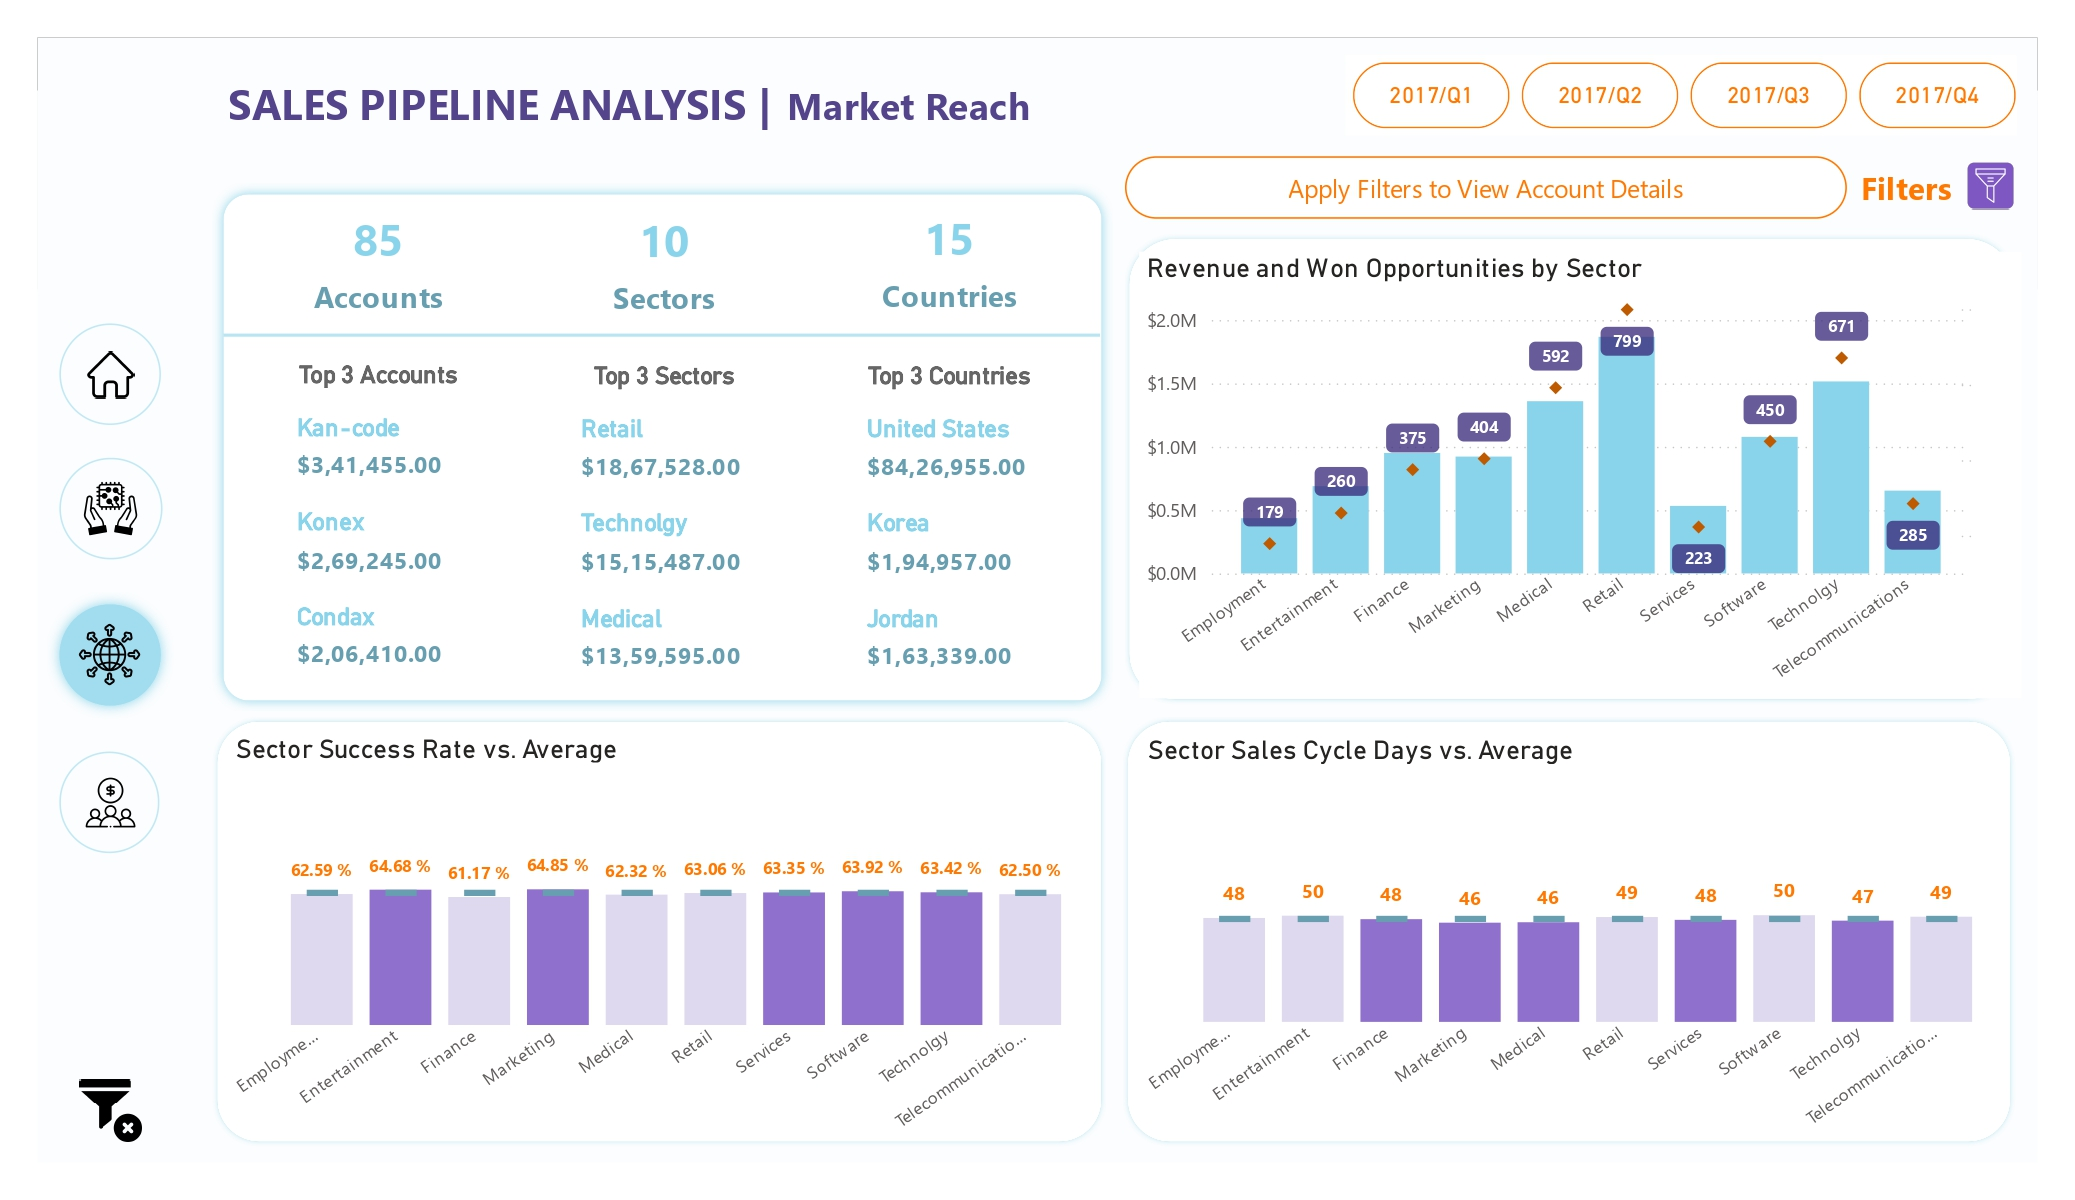

The page's visual inventory and layout, read from the dashboard file:
{"tool":"powerbi","page":{"name":"Market Reach","canvas":[1280,720],"ordinal":2},"visuals":[{"type":"advancedSlicerVisual","title":"Quarter Slicer","fields":{"Values":["calendar.Year Quarter"]},"box":[837.1,11.3,430,51.4],"z":0,"group":"g8"},{"type":"actionButton","title":"Open Button","box":[1164.5,72.5,100.5,45],"z":0,"group":"g7"},{"type":"shape","box":[111.8,93,575.9,337.6],"z":0,"group":"g5"},{"type":"shape","box":[695.6,126.2,572.3,300.6],"z":0,"group":"g4"},{"type":"shape","box":[13.9,183.1,65,65],"z":0,"group":"g12"},{"type":"multiRowCard","title":"Top 3 Countries","fields":{"Values":["accounts.office_location","DAX Measures.sales revenue"]},"box":[513.3,207.3,139.2,208.7],"z":0,"group":"g2"},{"type":"shape","box":[13.5,269.3,65.7,65],"z":0,"group":"g11"},{"type":"shape","box":[6.1,355.4,80.7,80.7],"z":0,"group":"g10"},{"type":"group","id":"g1","title":"Sector Success Rate","box":[111.8,435.3,571.8,274.7],"z":0},{"type":"shape","box":[111.8,435.3,571.8,274.7],"z":0,"group":"g1"},{"type":"shape","box":[695.3,435.3,571.2,274.7],"z":0,"group":"g3"},{"type":"shape","box":[14.4,457.3,64,65.4],"z":0,"group":"g9"},{"type":"textbox","box":[117,8,570,62.9],"z":1000,"group":"g8"},{"type":"image","title":"Filter Image","box":[1235.5,79.5,30,30],"z":1000,"group":"g7"},{"type":"card","title":"sectors card","fields":{"Values":["DAX Measures.sector qty"]},"box":[310.5,109.8,180.5,65.9],"z":1000,"group":"g6"},{"type":"lineClusteredColumnComboChart","title":"Revenue and Won Opportunities by Sector","fields":{"Category":["accounts.sector"],"Y":["DAX Measures.sales revenue"],"Y2":["DAX Measures.won opportunities"]},"box":[704.6,137,564.8,286.6],"z":1000,"group":"g4"},{"type":"image","title":"Home Icon","box":[31.4,200.6,30,30],"z":1000,"group":"g12"},{"type":"group","id":"g2","title":"Top 3 by Revenue","box":[148.5,206,504,210],"z":1000,"group":"g5"},{"type":"multiRowCard","title":"Top 3 Sectors","fields":{"Values":["accounts.sector","DAX Measures.sales revenue"]},"box":[330.9,207.3,139.2,208.7],"z":1000,"group":"g2"},{"type":"image","title":"Product Icon","box":[28.9,284.3,35,35],"z":1000,"group":"g11"},{"type":"image","title":"Market Reach Icon","box":[26.4,375.7,40,40],"z":1000,"group":"g10"},{"type":"group","id":"g3","title":"Sector Sales Cycle","box":[695.3,435.3,571.2,274.7],"z":1000},{"type":"lineClusteredColumnComboChart","title":"Sector Success Rate vs. Average","fields":{"Category":["accounts.sector"],"Y":["DAX Measures.success rate"],"Y2":["DAX Measures.avg success rate"]},"box":[121.8,445.1,558.5,264.9],"z":1000,"group":"g1"},{"type":"lineClusteredColumnComboChart","title":"Sector Sales Cycle Days vs. Average","fields":{"Category":["accounts.sector"],"Y2":["DAX Measures.avg sales cycle duration"],"Y":["DAX Measures.sales cycle duration"]},"box":[705.8,445.8,558.6,262.1],"z":1000,"group":"g3"},{"type":"image","title":"Sales Teams Icon","box":[28.9,472.5,35,35],"z":1000,"group":"g9"},{"type":"card","title":"accounts card","fields":{"Values":["DAX Measures.account qty"]},"box":[127.8,109.4,180,66.8],"z":2000,"group":"g6"},{"type":"group","id":"g4","title":"Revenue Won by Sector","box":[695.6,126.2,573.8,300.6],"z":2000},{"type":"shape","box":[118.7,175.3,561.3,30.7],"z":2000,"group":"g5"},{"type":"multiRowCard","title":"Top 3 Accounts","fields":{"Values":["accounts.account_name","DAX Measures.sales revenue"]},"box":[148.5,206,137.8,208.7],"z":2000,"group":"g2"},{"type":"group","id":"g5","title":"Info Cards","box":[111.8,93,575.9,337.6],"z":3000},{"type":"group","id":"g6","title":"Qty Cards","box":[121,102.1,557.2,81.7],"z":3000,"group":"g5"},{"type":"card","title":"countries card","fields":{"Values":["DAX Measures.country qty"]},"box":[493.2,109,180.7,65.7],"z":3000,"group":"g6"},{"type":"actionButton","title":"Drill Through Button","box":[695.6,75.6,461.9,40.6],"z":4000},{"type":"group","id":"g7","title":"Filter Icon","box":[1164.5,72.5,101,45],"z":6000},{"type":"group","id":"g8","title":"Header","box":[117,8,1150.1,62.9],"z":7000},{"type":"image","title":"Reset Filters","box":[21.7,662,50,50],"z":8500,"group":"g13"},{"type":"group","id":"g9","title":"Sales Team Icon","box":[14.4,457.3,64,65.4],"z":9000,"group":"g13"},{"type":"group","id":"g10","title":"Market Icon","box":[6.1,355.4,80.7,80.7],"z":10000,"group":"g13"},{"type":"group","id":"g11","title":"Product Icon","box":[13.5,269.3,65.7,65],"z":11000,"group":"g13"},{"type":"group","id":"g12","title":"Home Icon","box":[13.9,183.1,65,65],"z":12000,"group":"g13"},{"type":"group","id":"g13","title":"Page Navigator","box":[0,0,95.7,720],"z":12001}]}

Visuals, with their boxes on the page's 1280x720 design canvas (x1, y1, x2, y2). These are canvas units, not pixel positions in the 2075x1200 screenshot, which may show the page scaled, cropped or inside an application window:
"Quarter Slicer" advancedSlicerVisual: {"left": 837, "top": 11, "right": 1267, "bottom": 63}
"Open Button" actionButton: {"left": 1164, "top": 72, "right": 1265, "bottom": 118}
shape: {"left": 112, "top": 93, "right": 688, "bottom": 431}
shape: {"left": 696, "top": 126, "right": 1268, "bottom": 427}
shape: {"left": 14, "top": 183, "right": 79, "bottom": 248}
"Top 3 Countries" multiRowCard: {"left": 513, "top": 207, "right": 652, "bottom": 416}
shape: {"left": 14, "top": 269, "right": 79, "bottom": 334}
shape: {"left": 6, "top": 355, "right": 87, "bottom": 436}
"Sector Success Rate" group: {"left": 112, "top": 435, "right": 684, "bottom": 710}
shape: {"left": 112, "top": 435, "right": 684, "bottom": 710}
shape: {"left": 695, "top": 435, "right": 1266, "bottom": 710}
shape: {"left": 14, "top": 457, "right": 78, "bottom": 523}
textbox: {"left": 117, "top": 8, "right": 687, "bottom": 71}
"Filter Image" image: {"left": 1236, "top": 80, "right": 1266, "bottom": 110}
"sectors card" card: {"left": 310, "top": 110, "right": 491, "bottom": 176}
"Revenue and Won Opportunities by Sector" lineClusteredColumnComboChart: {"left": 705, "top": 137, "right": 1269, "bottom": 424}
"Home Icon" image: {"left": 31, "top": 201, "right": 61, "bottom": 231}
"Top 3 by Revenue" group: {"left": 148, "top": 206, "right": 652, "bottom": 416}
"Top 3 Sectors" multiRowCard: {"left": 331, "top": 207, "right": 470, "bottom": 416}
"Product Icon" image: {"left": 29, "top": 284, "right": 64, "bottom": 319}
"Market Reach Icon" image: {"left": 26, "top": 376, "right": 66, "bottom": 416}
"Sector Sales Cycle" group: {"left": 695, "top": 435, "right": 1266, "bottom": 710}
"Sector Success Rate vs. Average" lineClusteredColumnComboChart: {"left": 122, "top": 445, "right": 680, "bottom": 710}
"Sector Sales Cycle Days vs. Average" lineClusteredColumnComboChart: {"left": 706, "top": 446, "right": 1264, "bottom": 708}
"Sales Teams Icon" image: {"left": 29, "top": 472, "right": 64, "bottom": 508}
"accounts card" card: {"left": 128, "top": 109, "right": 308, "bottom": 176}
"Revenue Won by Sector" group: {"left": 696, "top": 126, "right": 1269, "bottom": 427}
shape: {"left": 119, "top": 175, "right": 680, "bottom": 206}
"Top 3 Accounts" multiRowCard: {"left": 148, "top": 206, "right": 286, "bottom": 415}
"Info Cards" group: {"left": 112, "top": 93, "right": 688, "bottom": 431}
"Qty Cards" group: {"left": 121, "top": 102, "right": 678, "bottom": 184}
"countries card" card: {"left": 493, "top": 109, "right": 674, "bottom": 175}
"Drill Through Button" actionButton: {"left": 696, "top": 76, "right": 1158, "bottom": 116}
"Filter Icon" group: {"left": 1164, "top": 72, "right": 1266, "bottom": 118}
"Header" group: {"left": 117, "top": 8, "right": 1267, "bottom": 71}
"Reset Filters" image: {"left": 22, "top": 662, "right": 72, "bottom": 712}
"Sales Team Icon" group: {"left": 14, "top": 457, "right": 78, "bottom": 523}
"Market Icon" group: {"left": 6, "top": 355, "right": 87, "bottom": 436}
"Product Icon" group: {"left": 14, "top": 269, "right": 79, "bottom": 334}
"Home Icon" group: {"left": 14, "top": 183, "right": 79, "bottom": 248}
"Page Navigator" group: {"left": 0, "top": 0, "right": 96, "bottom": 720}
